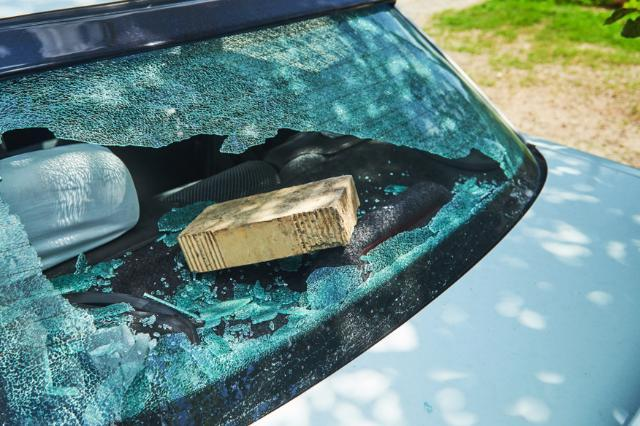Windshield: (0, 0, 541, 426)
